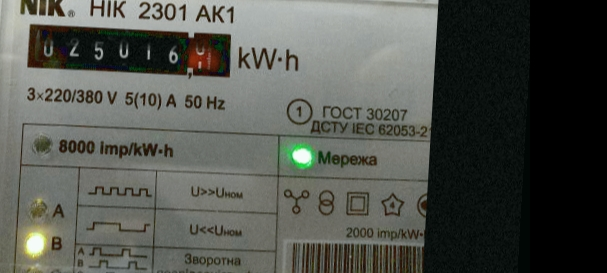0: (115, 36, 131, 60), (39, 36, 54, 58), (192, 35, 205, 56)
1: (140, 36, 153, 62), (193, 58, 201, 70)
2: (65, 34, 80, 58)
5: (90, 38, 102, 60)
6: (164, 41, 178, 66)
screen: (15, 12, 240, 86)
